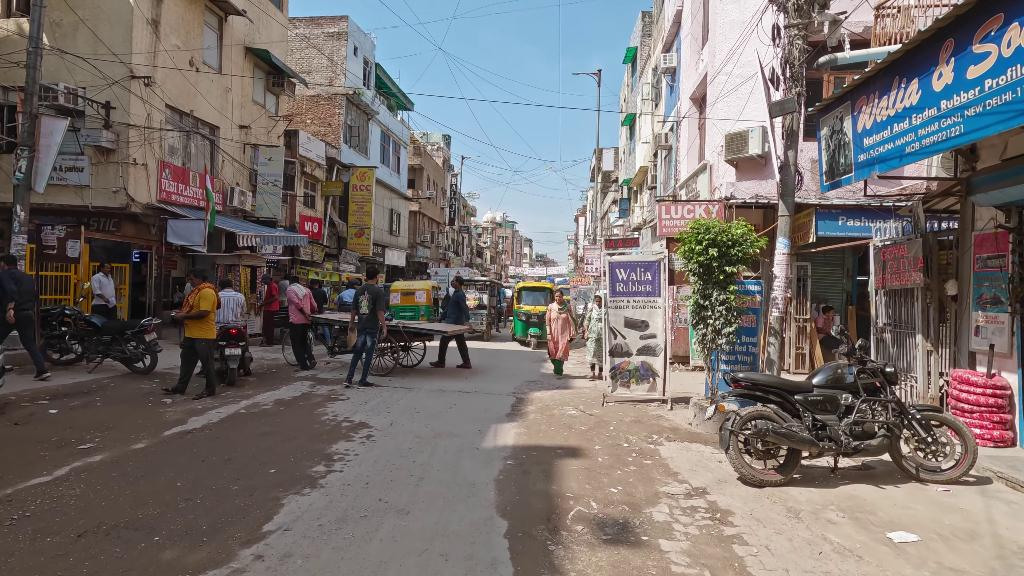garbage: (889, 531, 919, 546)
